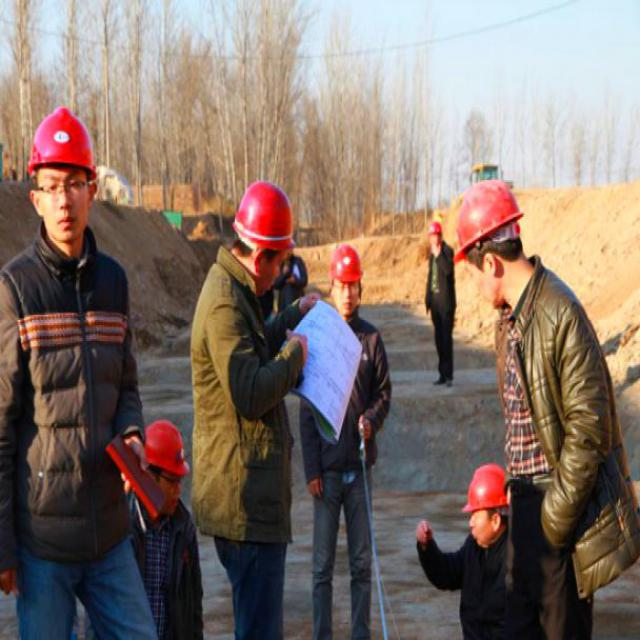helmet: (444, 163, 531, 313), (17, 101, 97, 242), (224, 160, 308, 289), (143, 398, 192, 518), (312, 236, 374, 320), (458, 463, 508, 544), (421, 210, 444, 255)
